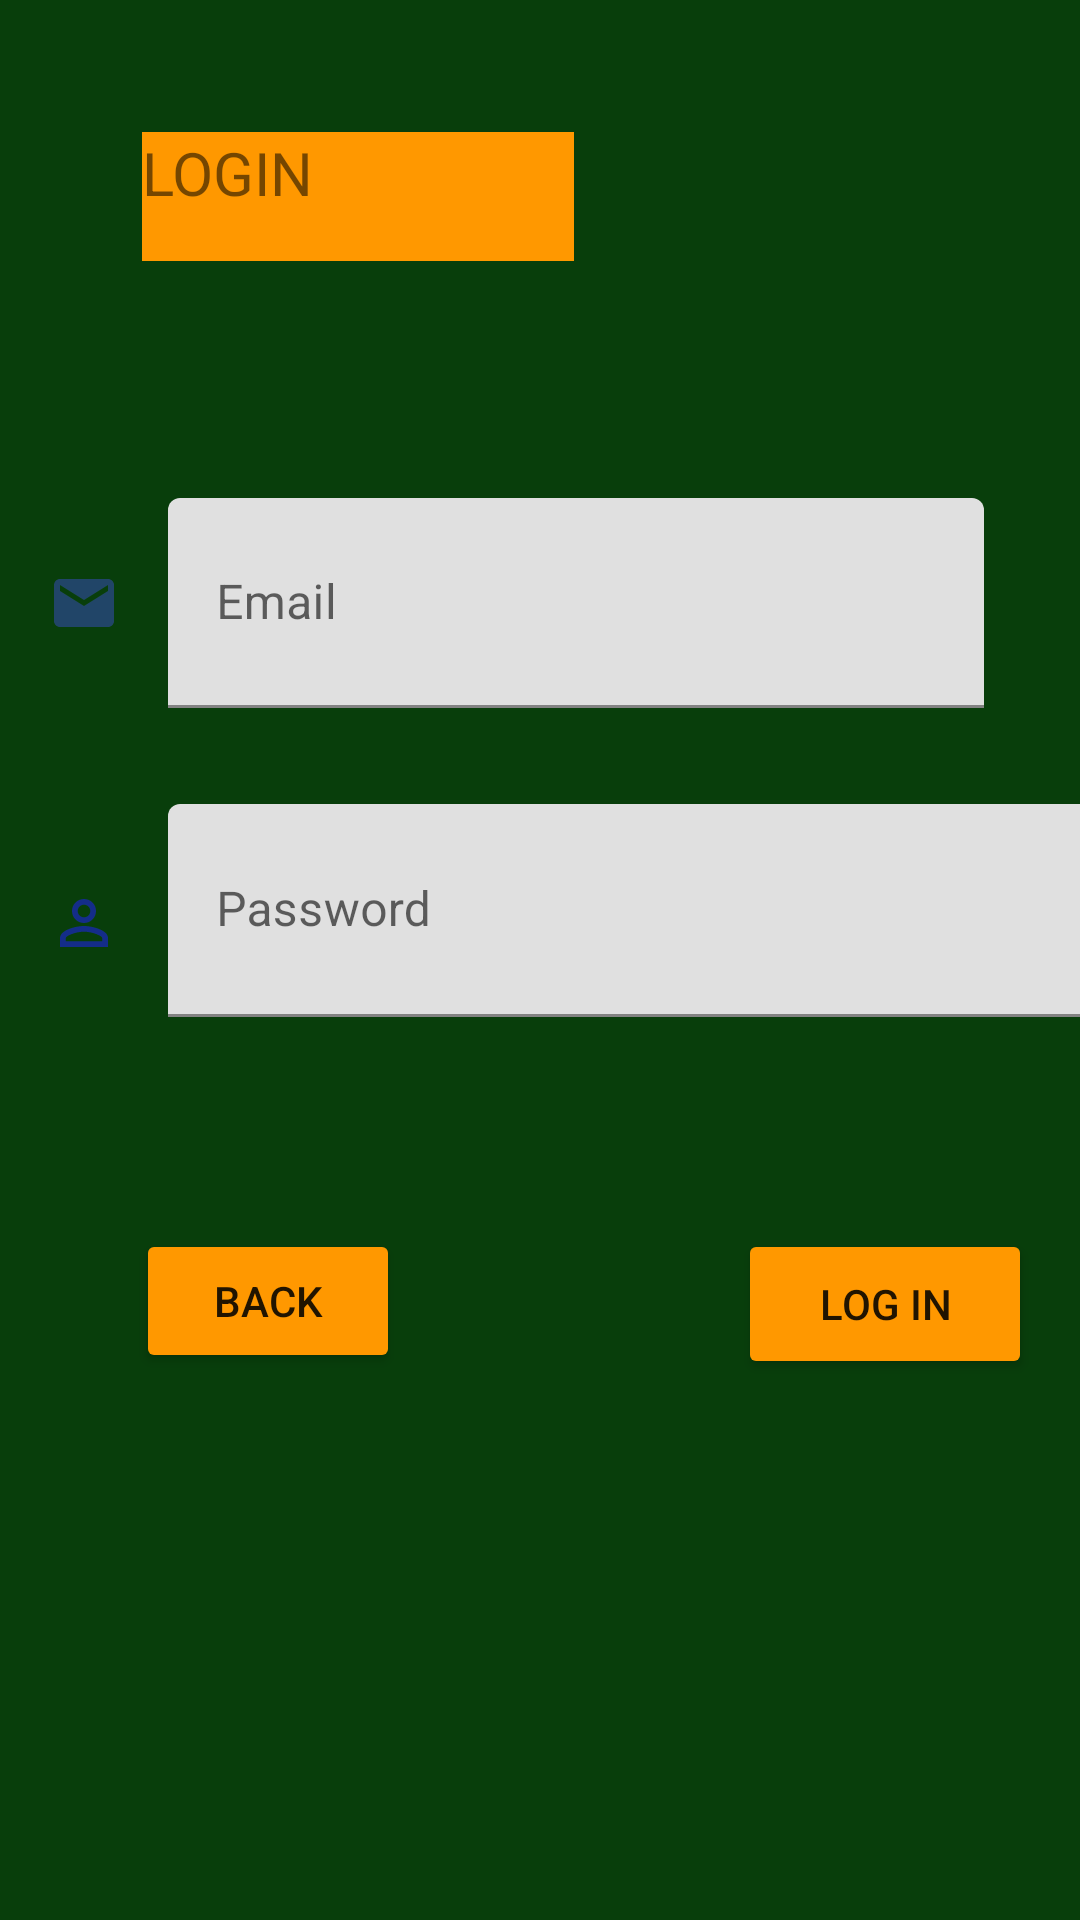

Screen size 1080x1920. Icon name, then its box in pixels as (x1, y1, x2, y2):
person: (60, 899, 108, 947)
